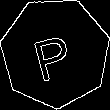P_N: (31, 24, 80, 82)
